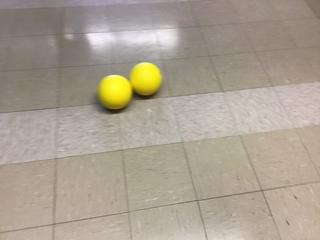power_cell: (96, 74, 133, 109), (131, 60, 164, 98)
